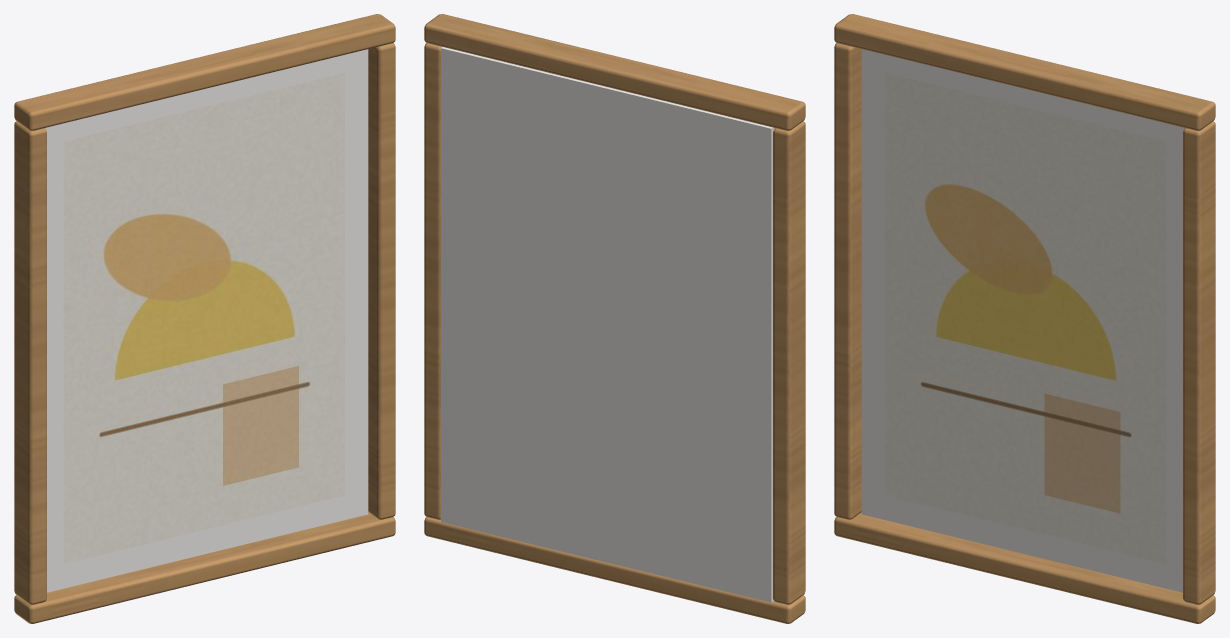
Rendered from picture_frame_abstract.glb.
3 renders of one model, left to right at view 1: azimuth 30°, elevation 25°; view 2: azimuth 150°, elevation 25°; view 3: azimuth 330°, elevation 25°, orthographic.
Parts seen in each view (by area): view 1: picture_frame_abstract_art, picture_frame_abstract_frame, picture_frame_abstract_mat; view 2: picture_frame_abstract_mat, picture_frame_abstract_frame; view 3: picture_frame_abstract_art, picture_frame_abstract_frame, picture_frame_abstract_mat.
Part boxes in pixels (left/top/right/bottom): picture_frame_abstract_art: left=63, top=73, right=344, bottom=563; picture_frame_abstract_frame: left=14, top=14, right=395, bottom=623; picture_frame_abstract_mat: left=45, top=49, right=368, bottom=592; picture_frame_abstract_mat: left=441, top=47, right=774, bottom=602; picture_frame_abstract_frame: left=424, top=14, right=805, bottom=623; picture_frame_abstract_art: left=885, top=73, right=1166, bottom=563; picture_frame_abstract_frame: left=834, top=14, right=1215, bottom=623; picture_frame_abstract_mat: left=861, top=49, right=1184, bottom=592.
Bounding box in the file's own units: 0.3 × 0.4 × 0.025.
3 materials, 2 textured.
